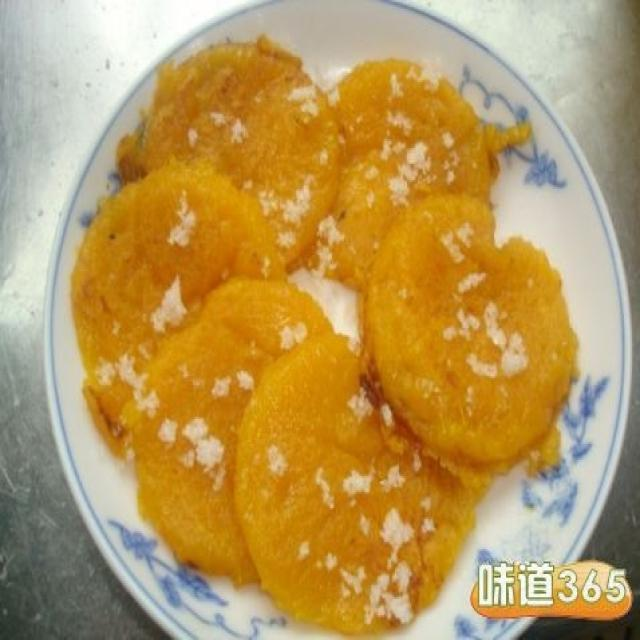炸货点心: (62, 13, 613, 631)
蛋糕甜品: (62, 13, 613, 631)
